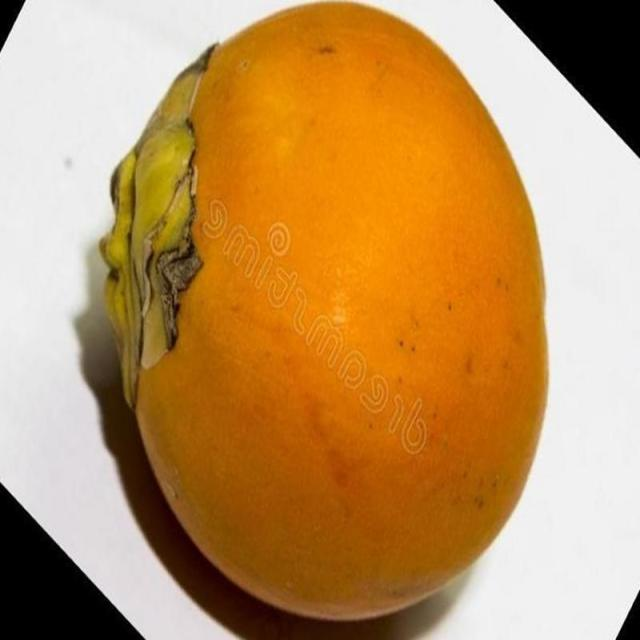good: (98, 3, 550, 626)
